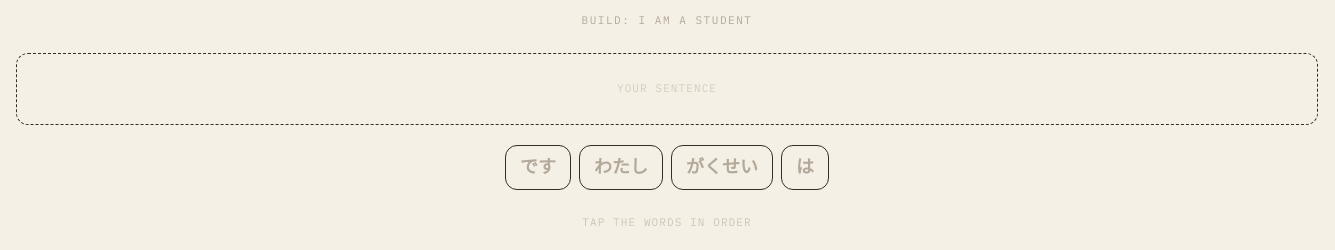
BuildStep › accepts the correct word order
Click the button "わたし" at (621, 167), box [579,144,663,190]
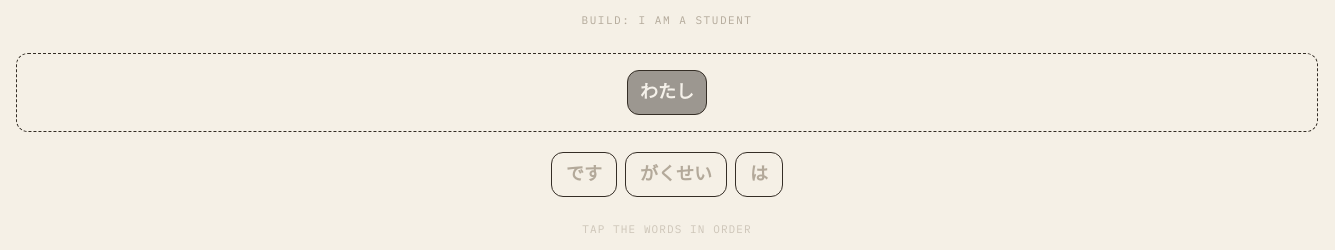
Click the button "は" at (759, 174), box [735,152,783,196]
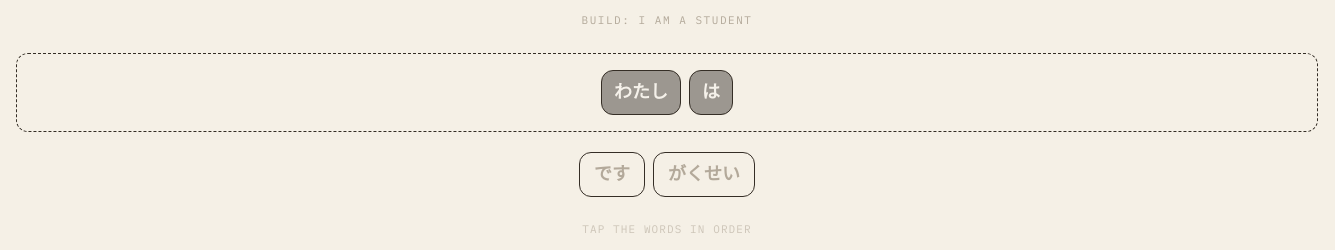
Click the button "がくせい" at (704, 174), box [653,152,755,196]
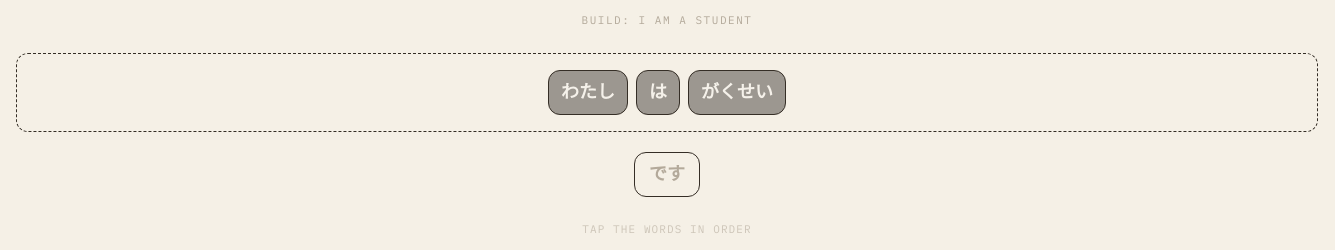
Click the button "です" at (667, 174), box [634,152,700,196]
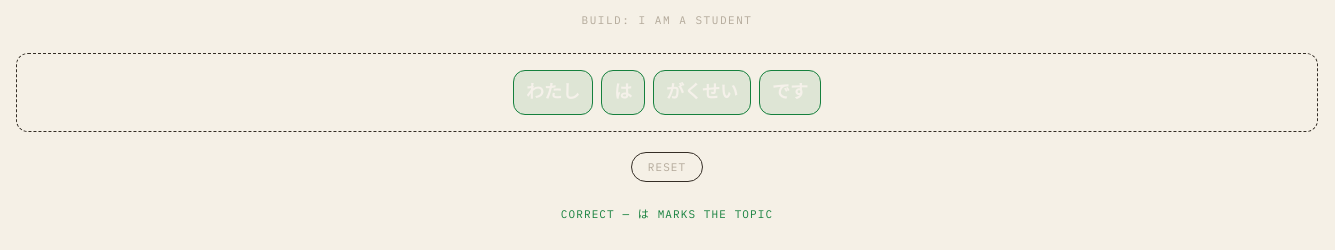
Expected: the text "Correct — は marks the topic" is shown, [561,207,773,221]
